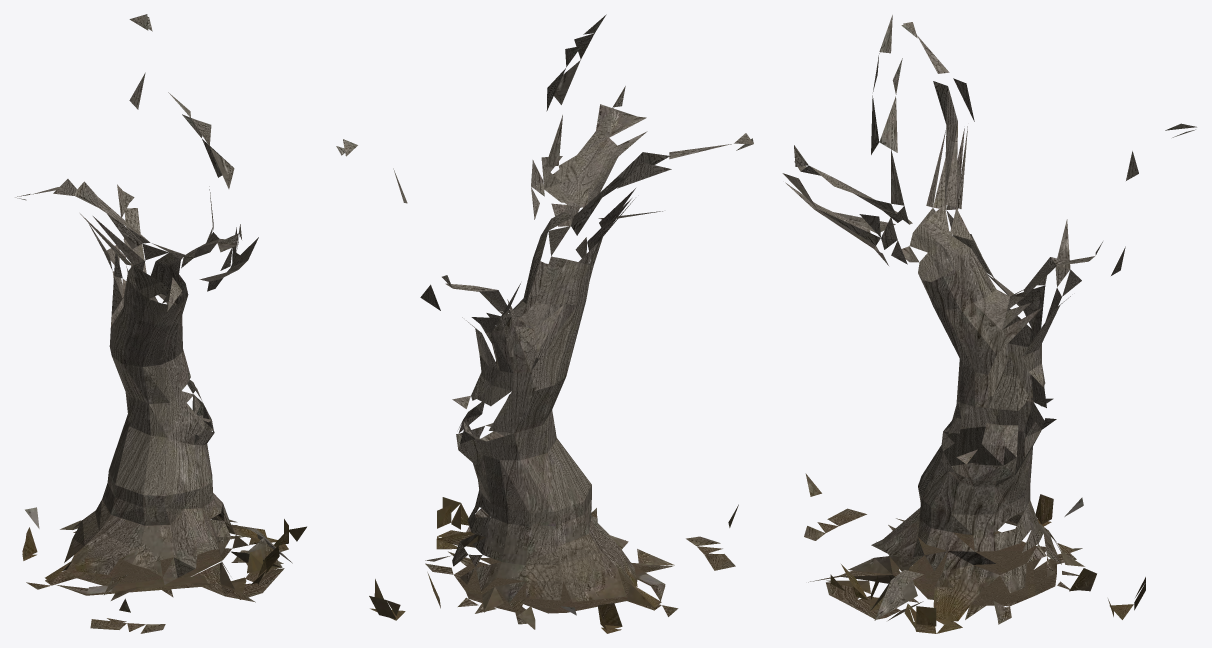
Rendered from tree_dead_LOD2.glb.
3 views of the same model, side by side, from view 1: azimuth 30°, elevation 25°; view 2: azimuth 150°, elevation 25°; view 3: azimuth 270°, elevation 25° (orthographic). The views are drawn at different scales.
Visible parts, largest first — view 1: tree_dead_LOD2; view 2: tree_dead_LOD2; view 3: tree_dead_LOD2.
Part boxes in pixels (x1,y1,x2,y2): tree_dead_LOD2: [15, 14, 306, 633]; tree_dead_LOD2: [336, 14, 753, 633]; tree_dead_LOD2: [782, 15, 1196, 633].
Bounding box in the file's own units: 0.4282 × 0.7079 × 0.485.
1 material, 1 textured.
